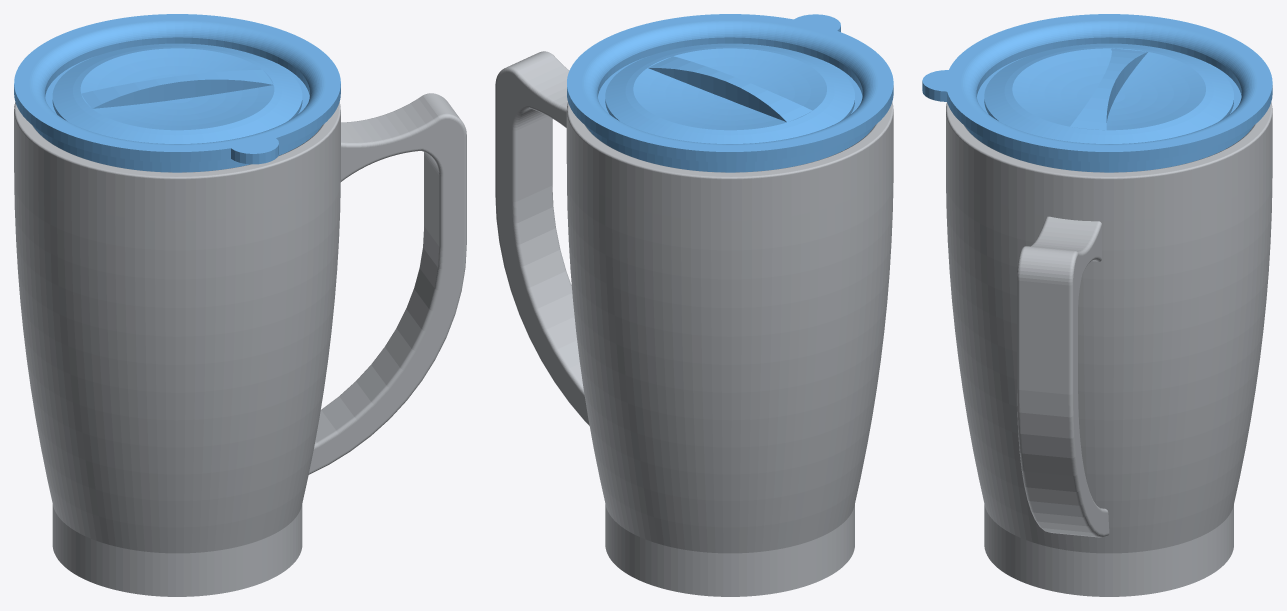
File: parts.glb
The picture shows the model from 3 angles, left to right: view 1: azimuth 30°, elevation 25°; view 2: azimuth 150°, elevation 25°; view 3: azimuth 270°, elevation 25°; orthographic projection.
Visible parts, largest first — view 1: visual_0_0, visual_1_0; view 2: visual_0_0, visual_1_0; view 3: visual_0_0, visual_1_0.
Part boxes in pixels (x1,y1,x2,y2): visual_0_0: (14,93,466,596); visual_1_0: (14,14,340,172); visual_0_0: (495,51,893,596); visual_1_0: (567,14,893,172); visual_0_0: (946,102,1272,596); visual_1_0: (922,14,1272,172).
Size of the model in its own units: 1.46 by 1.64 by 1.12.
